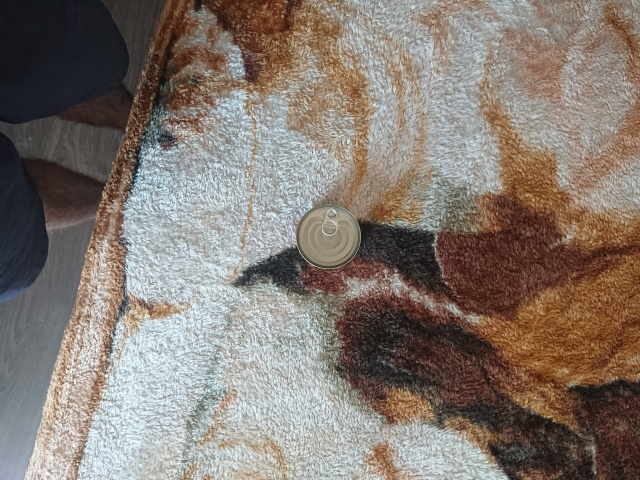Giana Tuna Salad Mexico 185g: (295, 201, 364, 272)
